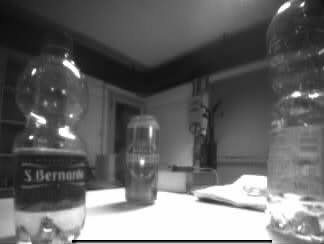Bottle: (13, 34, 85, 241), (266, 1, 324, 242)
Tin can: (125, 115, 158, 204)
